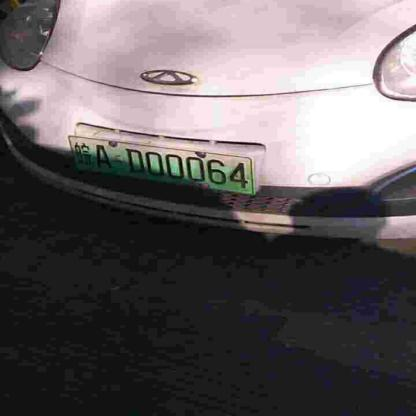lp: (66, 136, 252, 193)
